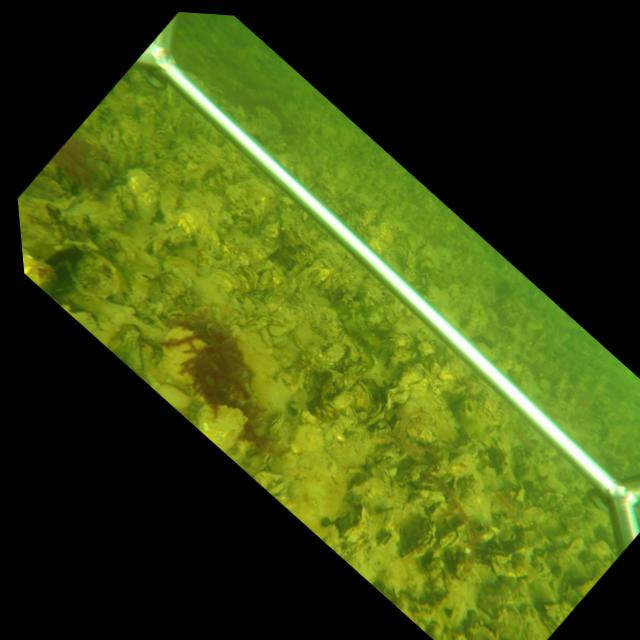Oyster-Closed: (365, 389, 392, 426), (163, 306, 208, 327), (438, 529, 461, 550), (266, 412, 285, 435)
Oyster-Indeterminate: (195, 402, 247, 453), (398, 517, 436, 561), (494, 605, 526, 640), (323, 342, 346, 367)
